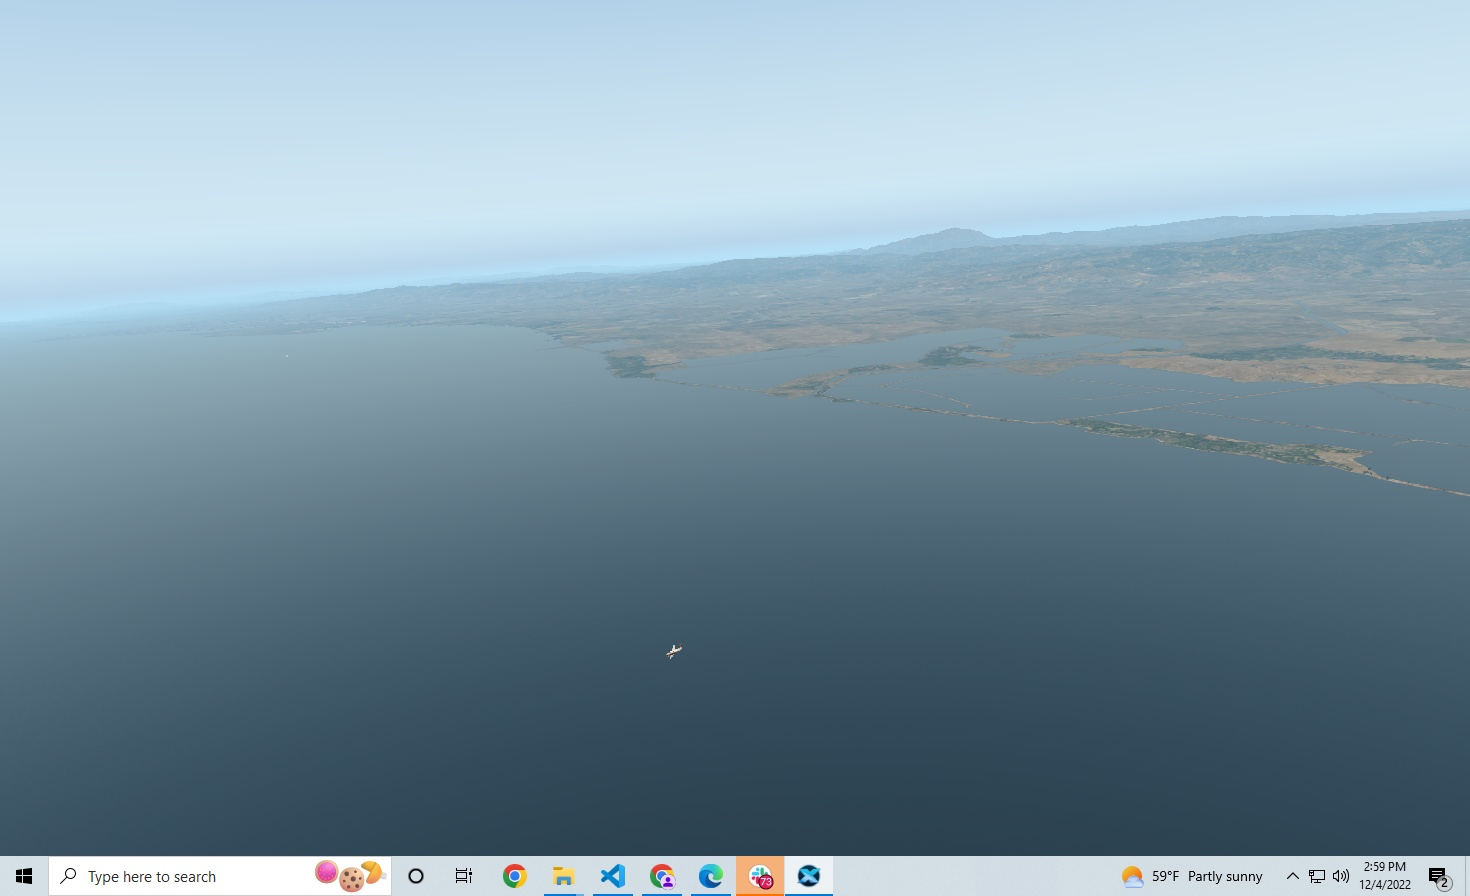aircraft: (653, 646, 691, 661)
